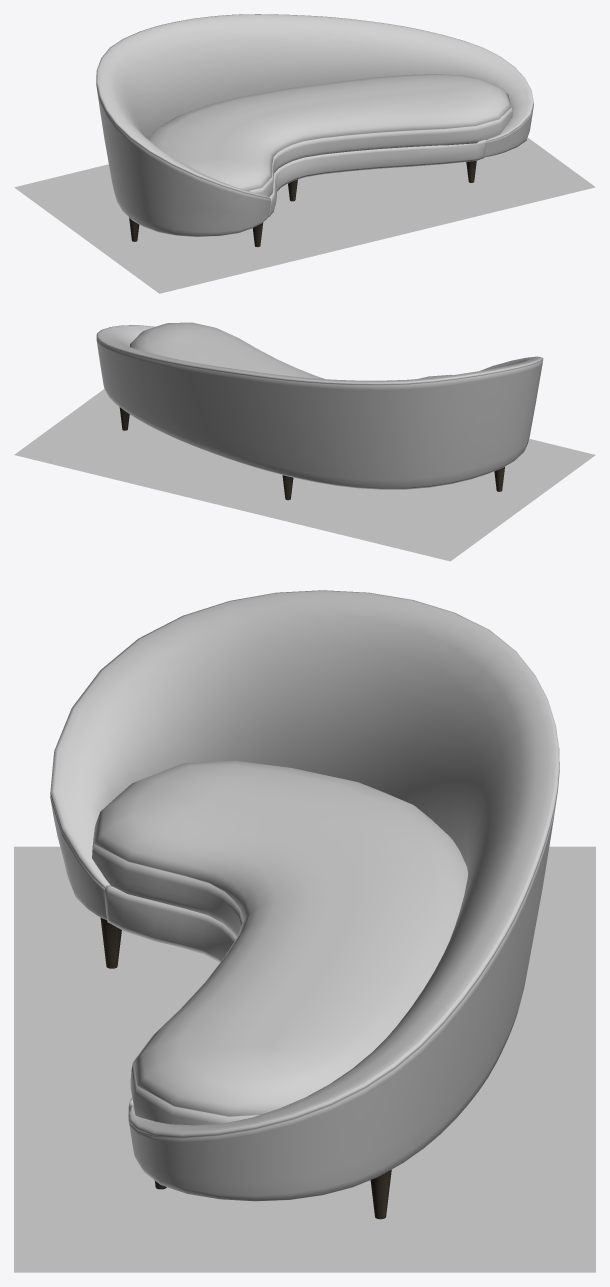
Rendered from om_hxdrsf_wyc.fbx.
The picture shows the model from 3 angles, top to bottom: view 1: azimuth 30°, elevation 25°; view 2: azimuth 150°, elevation 25°; view 3: azimuth 270°, elevation 25°; orthographic projection. The views are drawn at different scales.
Parts seen in each view (by area): view 1: 组001, Plane001, 对象004; view 2: 组001, Plane001, 对象004; view 3: 组001, Plane001, 对象004.
Boxes of the visible parts, x1,y1,x2,y2 form: 组001: (96,14,533,236); Plane001: (14,137,595,293); 对象004: (129,161,476,247); 组001: (96,322,543,489); Plane001: (14,389,595,561); 对象004: (119,407,504,500); 组001: (50,590,559,1201); Plane001: (14,846,595,1272); 对象004: (100,918,391,1219).
Size of the model in its own units: 2601 by 812 by 1501.
